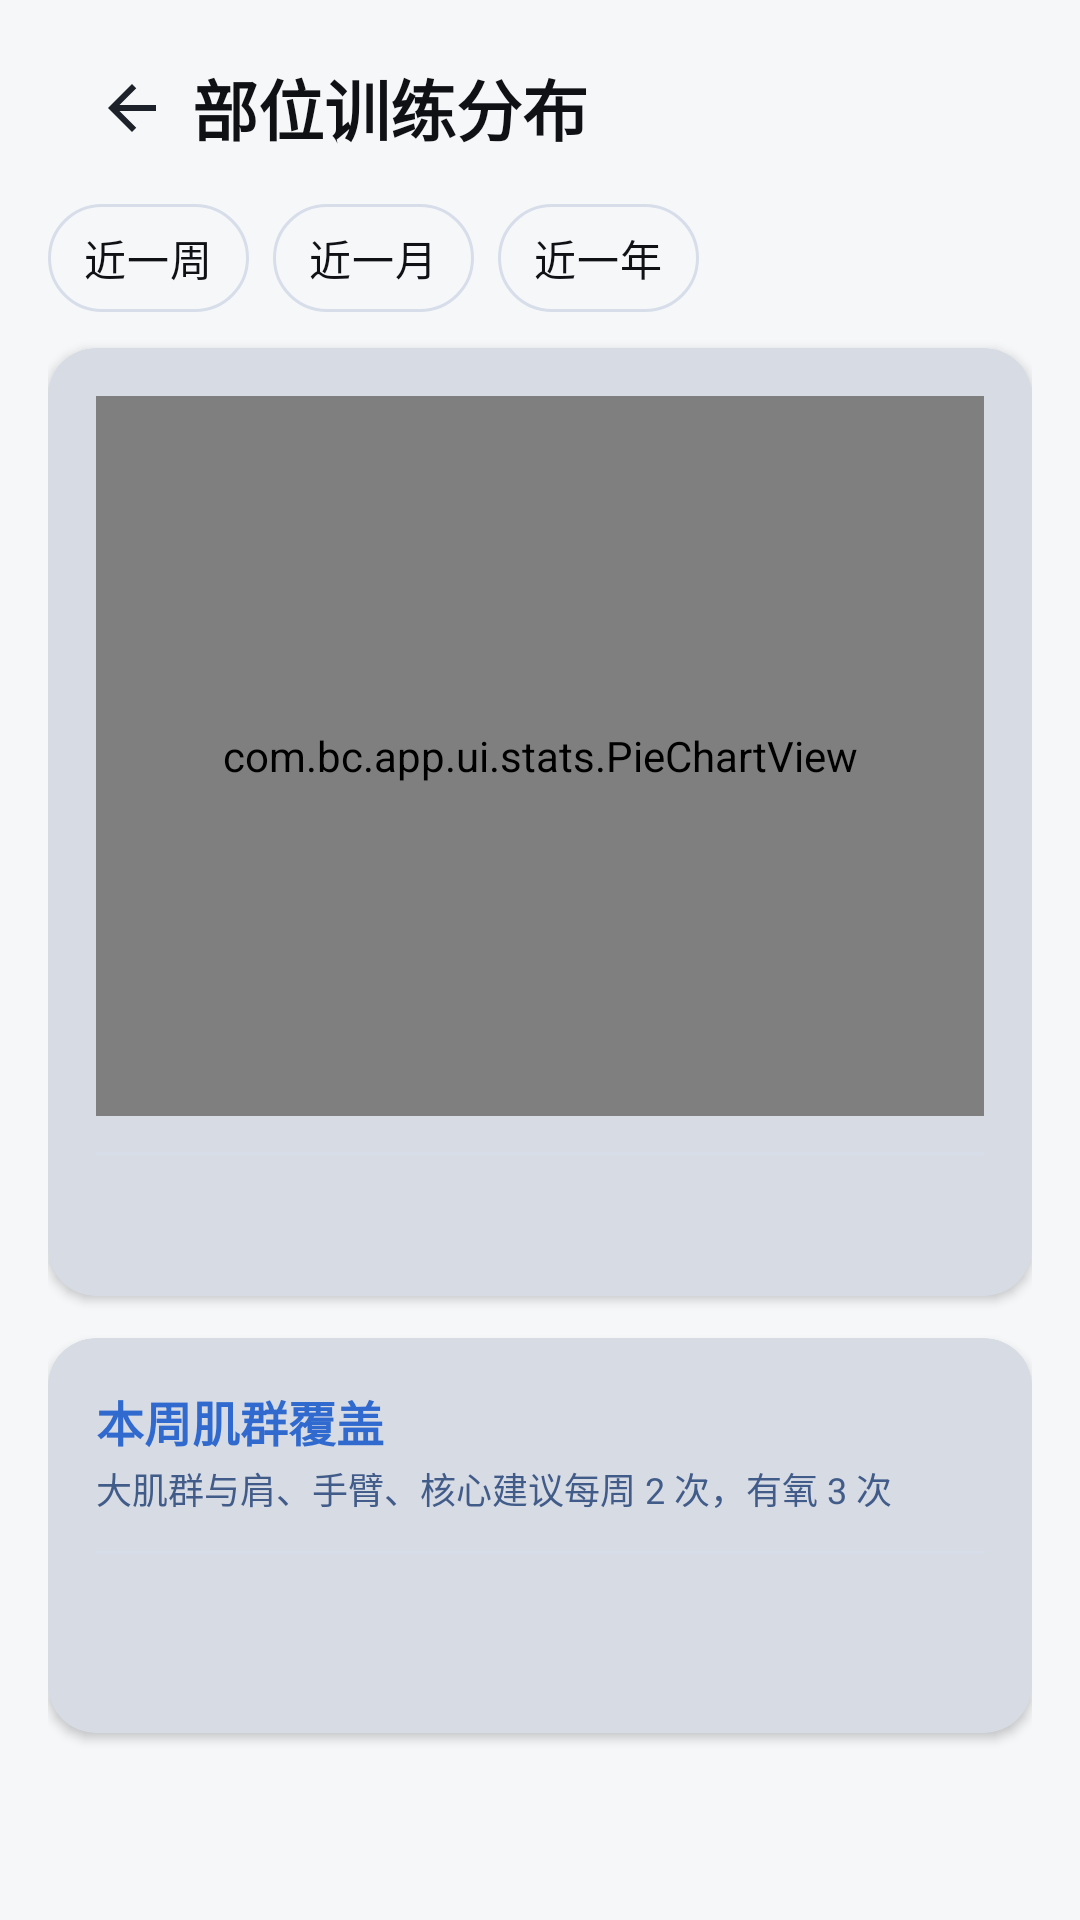

Point at icon controls on the screen. Image size 1080×1920, points as (x,y).
返回: (132,108)
